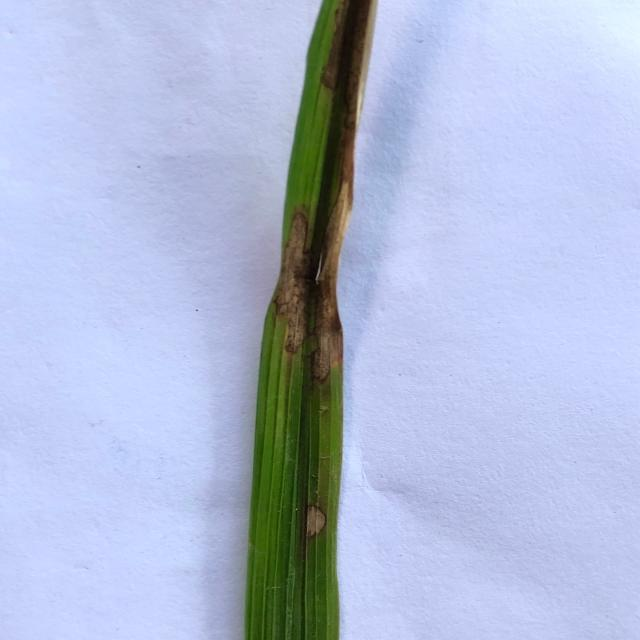Leaf Blight: (274, 0, 377, 381), (306, 505, 327, 538)
